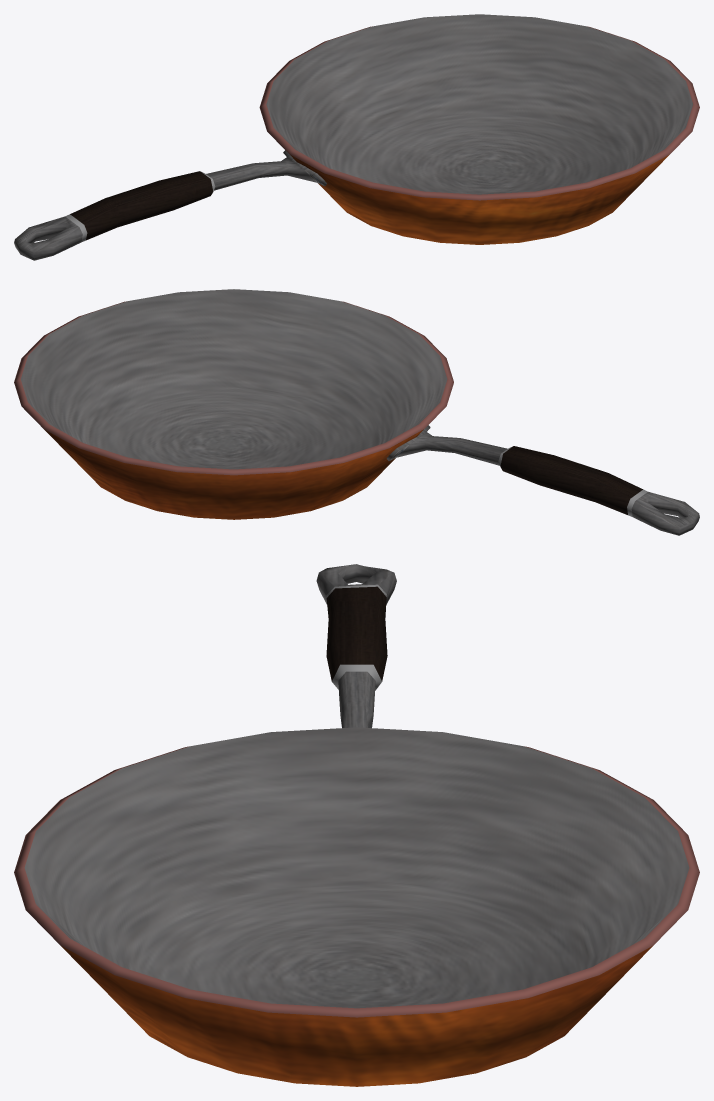
Rendered from FrypanLarge.fbx.
The picture shows the model from 3 angles, top to bottom: view 1: azimuth 30°, elevation 25°; view 2: azimuth 150°, elevation 25°; view 3: azimuth 270°, elevation 25°; orthographic projection. The views are drawn at different scales.
Visible parts, largest first — view 1: FryPan_Large_LOD0; view 2: FryPan_Large_LOD0; view 3: FryPan_Large_LOD0.
Part boxes in pixels (left/top/right/bottom): FryPan_Large_LOD0: left=14, top=14, right=699, bottom=260; FryPan_Large_LOD0: left=14, top=289, right=699, bottom=535; FryPan_Large_LOD0: left=14, top=564, right=699, bottom=1086.
Size of what is drawn, in the model's own units: 183 by 20.36 by 107.
